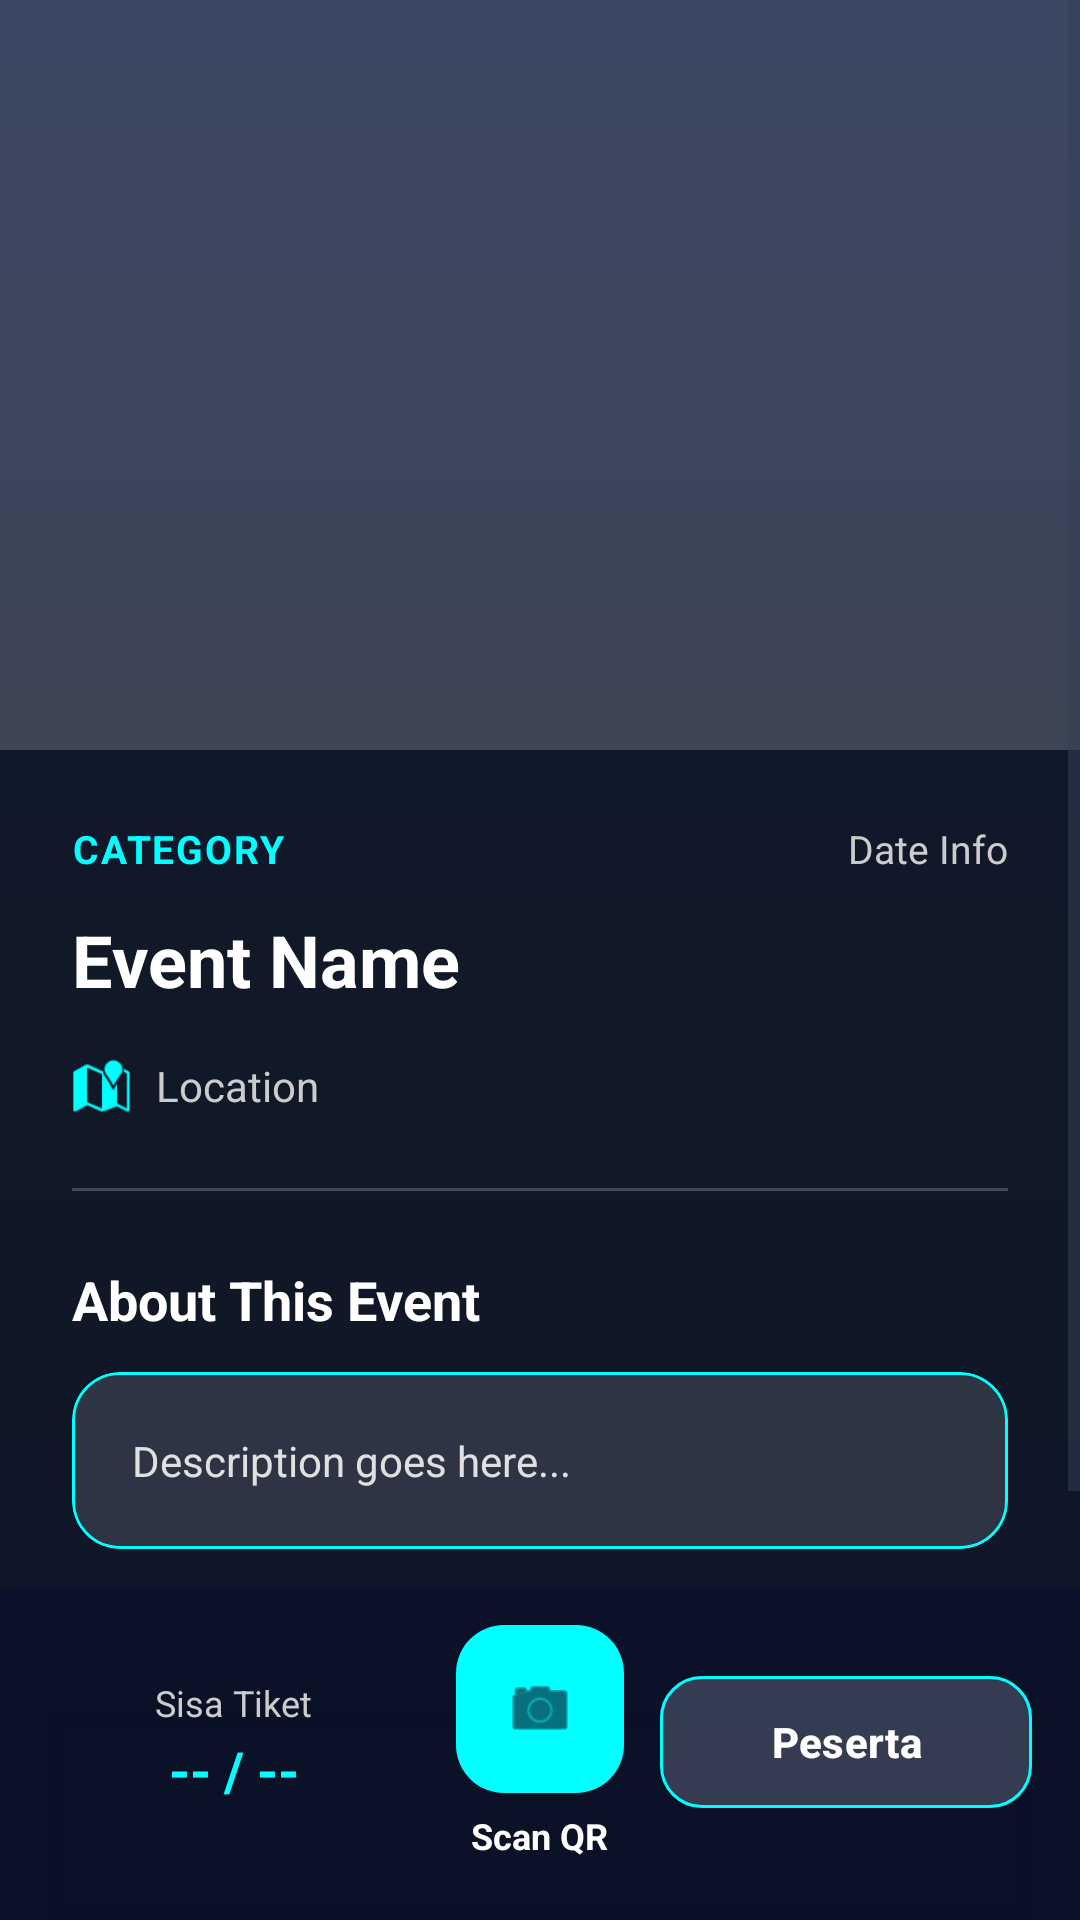

Icon bounding boxes for this 1080 × 1920 phone screenshot, format bbox=(x1, y1, x2, y2):
map: bbox=(73, 1059, 130, 1112)
